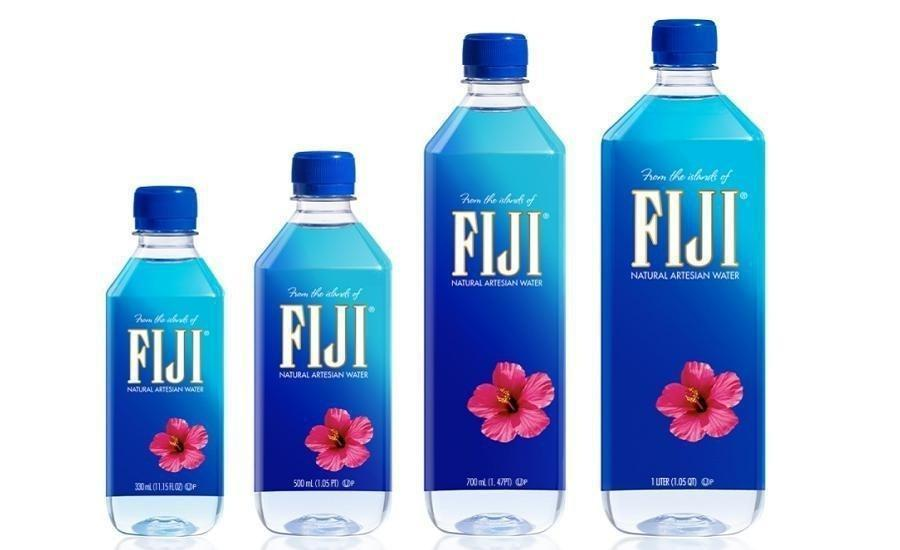bottle-plastic: (594, 14, 773, 542), (413, 25, 575, 546), (250, 143, 399, 539), (99, 180, 232, 535)
